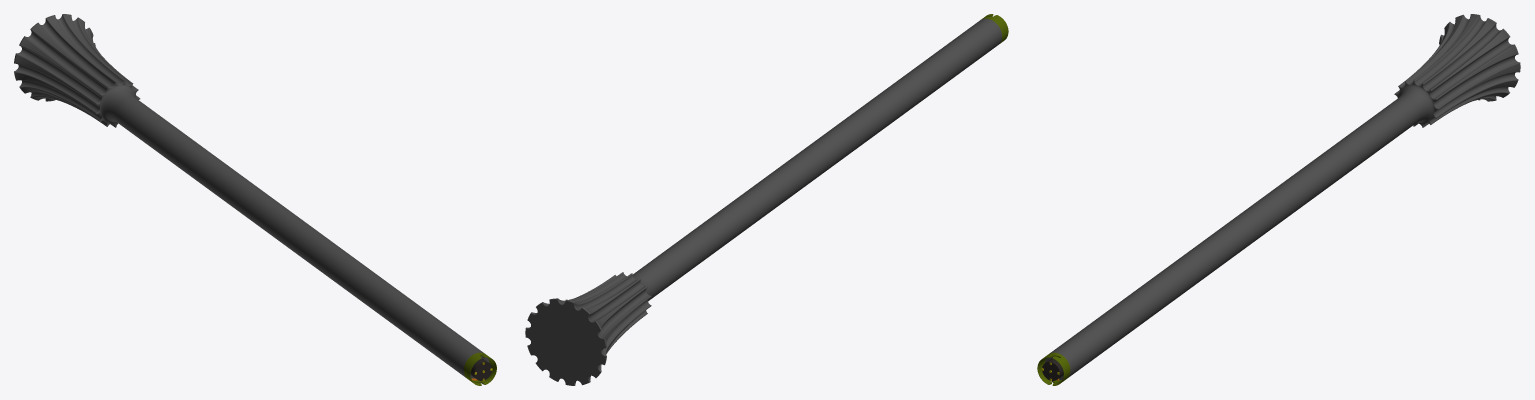
Rendered from stolb.obj.
3 renders of one model, left to right at view 1: azimuth 30°, elevation 25°; view 2: azimuth 150°, elevation 25°; view 3: azimuth 330°, elevation 25°, orthographic.
Parts seen in each view (by area): view 1: stolb; view 2: stolb; view 3: stolb.
Boxes of the visible parts, box(x1,y1,x2,y2) form: stolb: box(14, 14, 496, 385); stolb: box(525, 14, 1008, 385); stolb: box(1037, 14, 1520, 385).
Bounding box in the file's own units: 364 × 365 × 3353.
